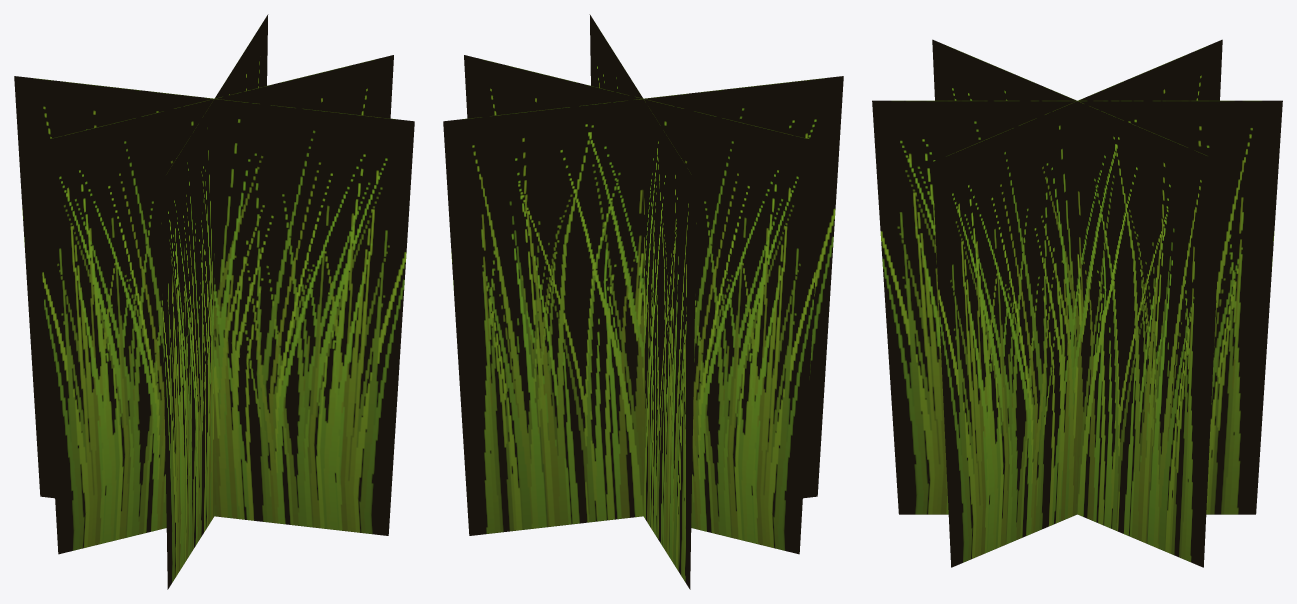
File: grass_tall.glb
3 views of the same model, side by side, from view 1: azimuth 30°, elevation 25°; view 2: azimuth 150°, elevation 25°; view 3: azimuth 270°, elevation 25° (orthographic).
Visible parts, largest first — view 1: grass_tall; view 2: grass_tall; view 3: grass_tall.
Boxes of the visible parts, left/top/right/bottom form: grass_tall: left=14, top=14, right=414, bottom=589; grass_tall: left=443, top=14, right=843, bottom=589; grass_tall: left=872, top=39, right=1282, bottom=567.
Size of the model in its own units: 1.03 by 1.15 by 1.03.
Materials: 1 (1 with a texture image).
